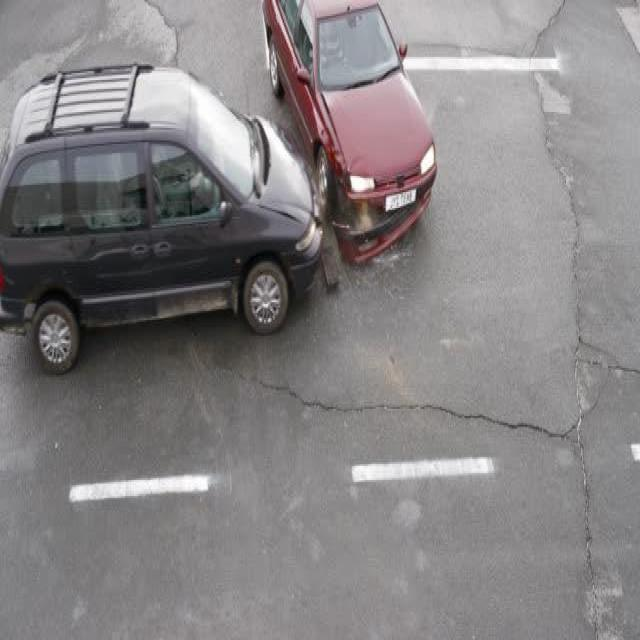multiple_accident: (223, 74, 410, 307)
